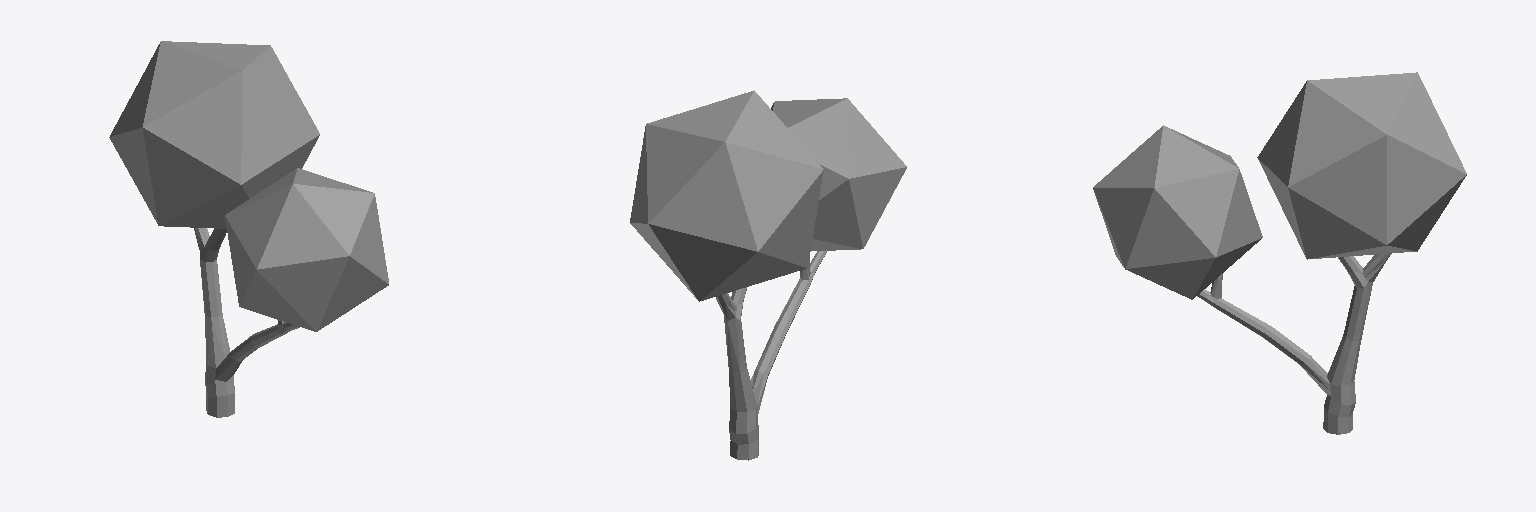
The model's file is Tree3.obj.
3 renders of one model, left to right at view 1: azimuth 30°, elevation 25°; view 2: azimuth 150°, elevation 25°; view 3: azimuth 270°, elevation 25°, orthographic.
Parts seen in each view (by area): view 1: Icosphere.008; view 2: Icosphere.008; view 3: Icosphere.008.
Part boxes in pixels (x1,y1,x2,y2): Icosphere.008: (109, 41, 388, 417); Icosphere.008: (630, 90, 906, 460); Icosphere.008: (1093, 72, 1466, 434).
Size of the model in its own units: 1.32 by 2.62 by 2.53.